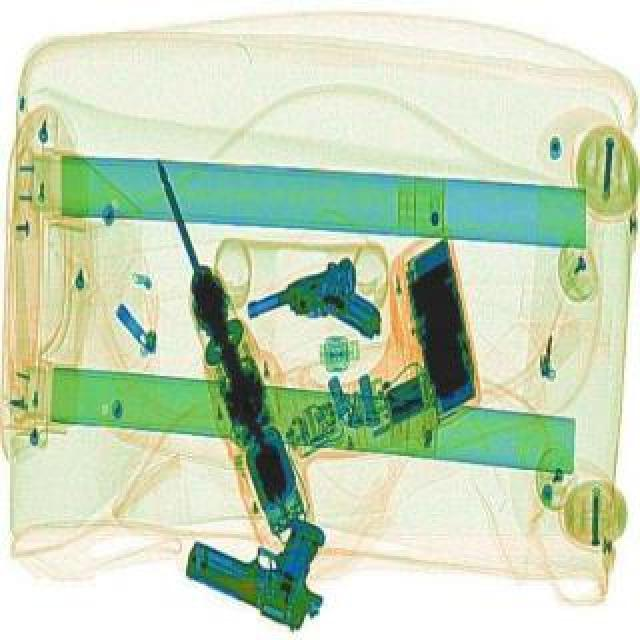gun: (172, 484, 352, 634), (238, 252, 390, 376)
